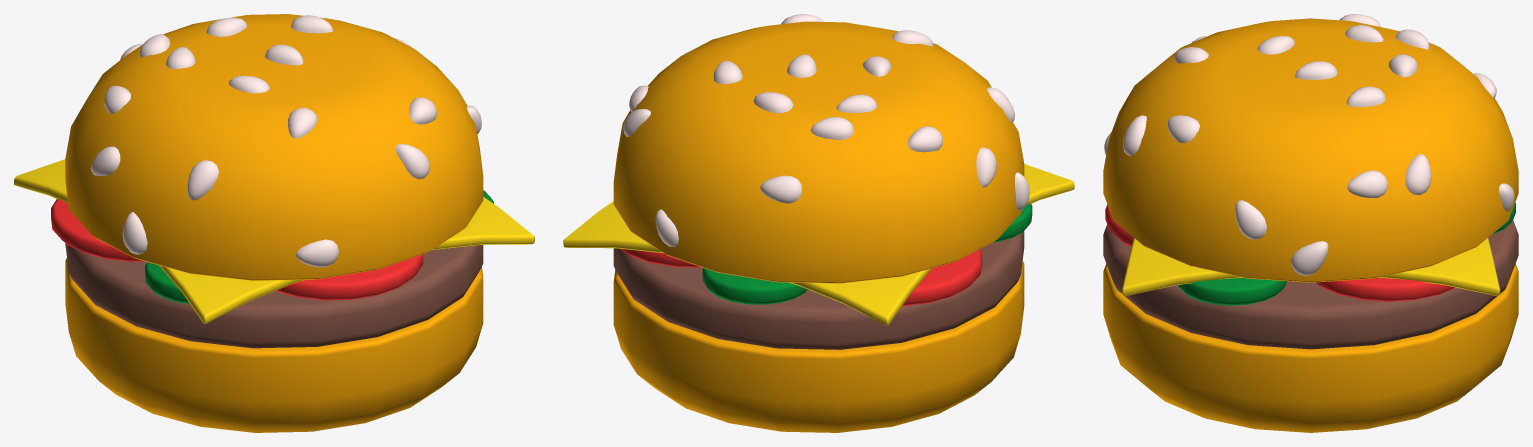
File: Store_2_Burger_3.glb
3 views of the same model, side by side, from view 1: azimuth 30°, elevation 25°; view 2: azimuth 150°, elevation 25°; view 3: azimuth 270°, elevation 25° (orthographic).
Visible parts, largest first — view 1: Store_2_Burger_3; view 2: Store_2_Burger_3; view 3: Store_2_Burger_3.
Part boxes in pixels (x1,y1,x2,y2): Store_2_Burger_3: [14, 14, 534, 432]; Store_2_Burger_3: [563, 14, 1074, 432]; Store_2_Burger_3: [1103, 14, 1518, 432].
Bounding box in the file's own units: 0.3412 × 0.2713 × 0.333.
1 material, 1 textured.
